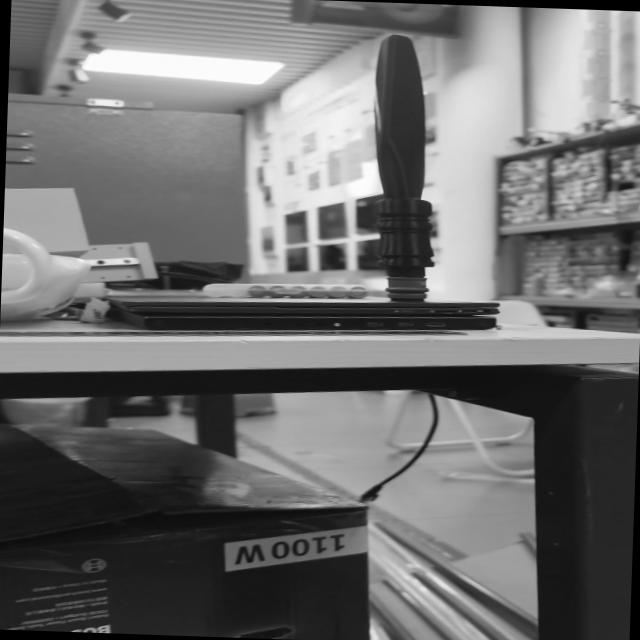base: (376, 272, 437, 308)
